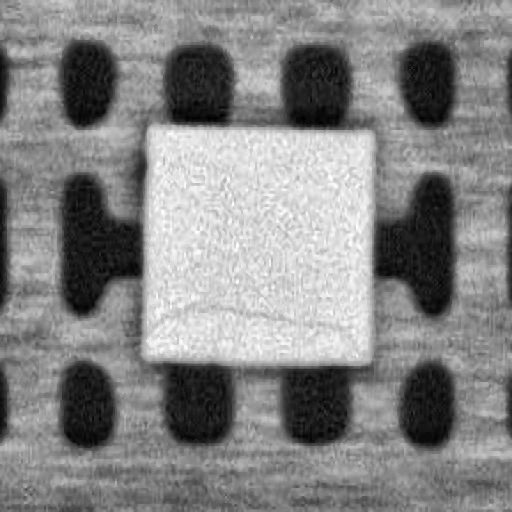DIE_CRACK: (146, 297, 354, 334)
